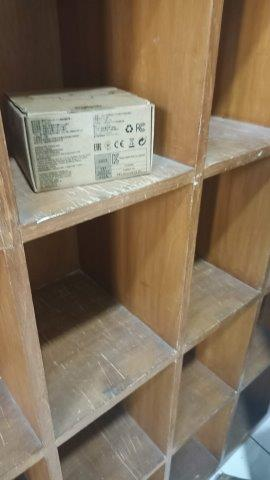kardus: (1, 85, 153, 193)
